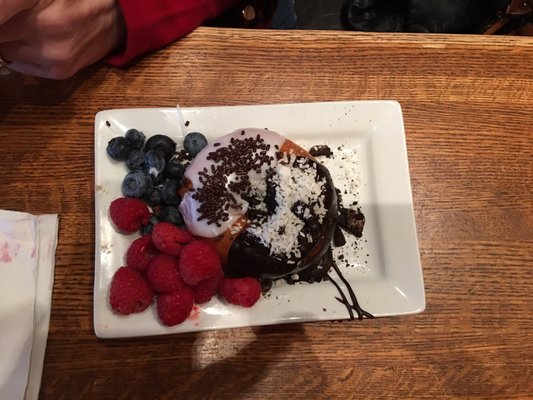sushi: (92, 108, 353, 339)
